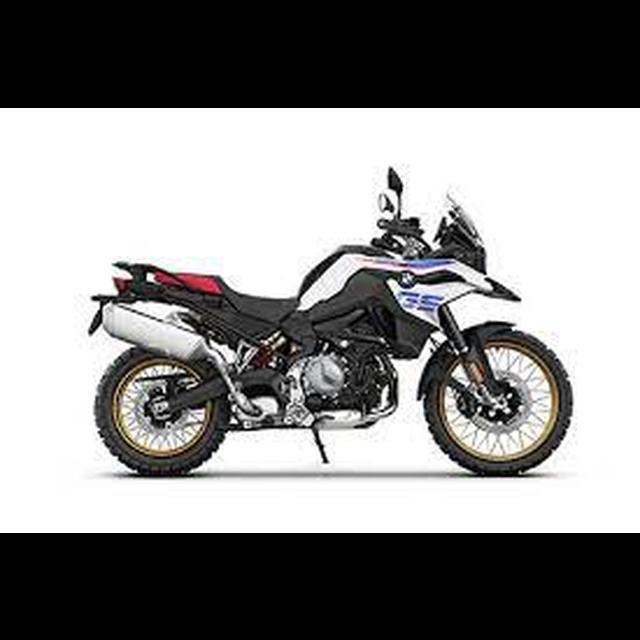motorcycle: (87, 161, 576, 483)
